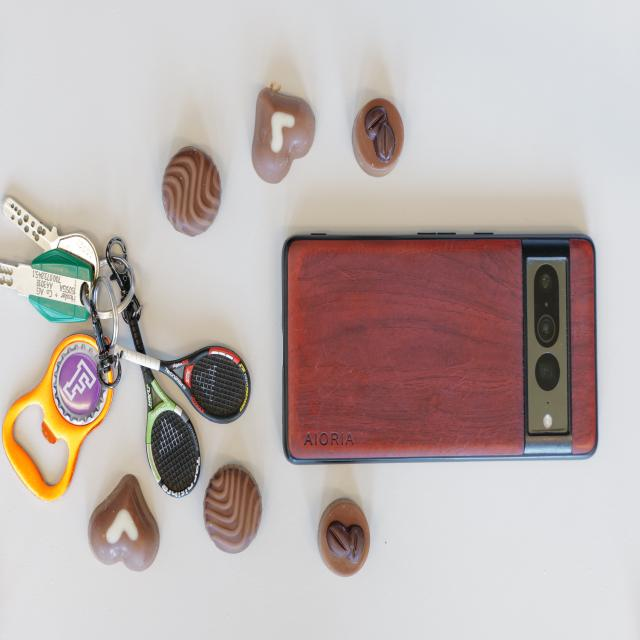Arabia: (352, 97, 406, 179), (319, 500, 370, 578)
Noir_authentique: (204, 465, 263, 555), (163, 146, 221, 237)
Passion_au_lait: (87, 474, 160, 574), (252, 87, 316, 183)
